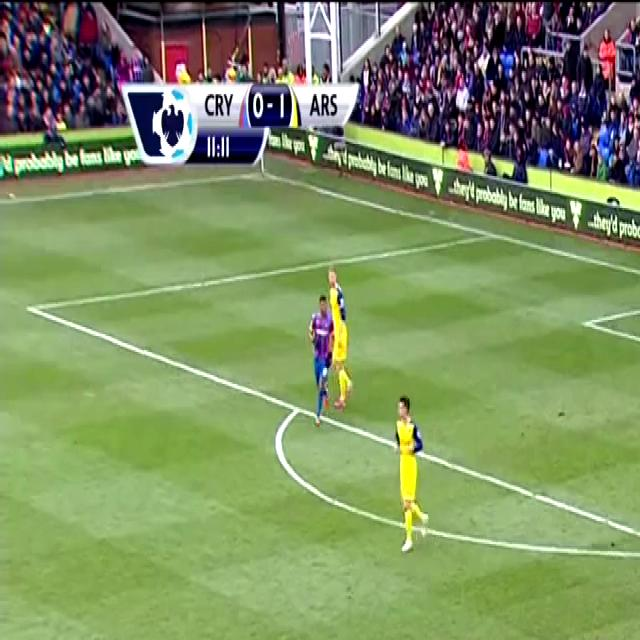soccer-player: (383, 386, 446, 556), (296, 277, 359, 440), (556, 636, 639, 640)
